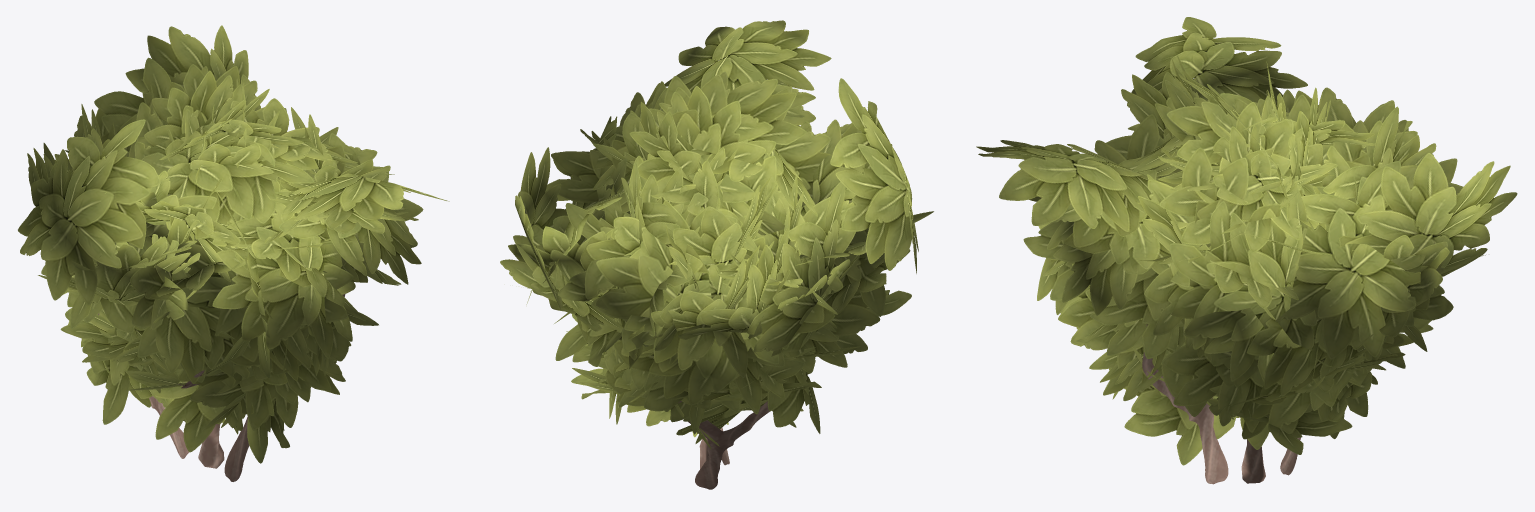
The model's file is Bush02.fbx.
3 renders of one model, left to right at view 1: azimuth 30°, elevation 25°; view 2: azimuth 150°, elevation 25°; view 3: azimuth 270°, elevation 25°, orthographic. The views are drawn at different scales.
Parts seen in each view (by area): view 1: Bush02; view 2: Bush02; view 3: Bush02.
Boxes of the visible parts, x1=… form: Bush02: x1=18, y1=25, x2=449, y2=481; Bush02: x1=500, y1=20, x2=933, y2=489; Bush02: x1=976, y1=17, x2=1517, y2=484.
Bounding box in the file's own units: 207 × 225 × 257.
1 material, 1 textured.
